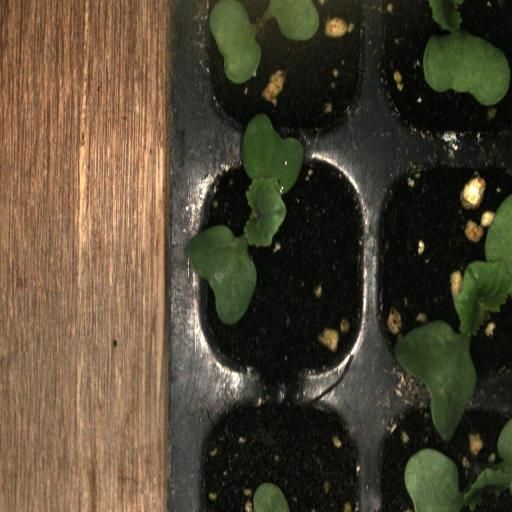seedling: (184, 140, 373, 377), (377, 146, 512, 380), (376, 0, 512, 140), (368, 382, 512, 512)
